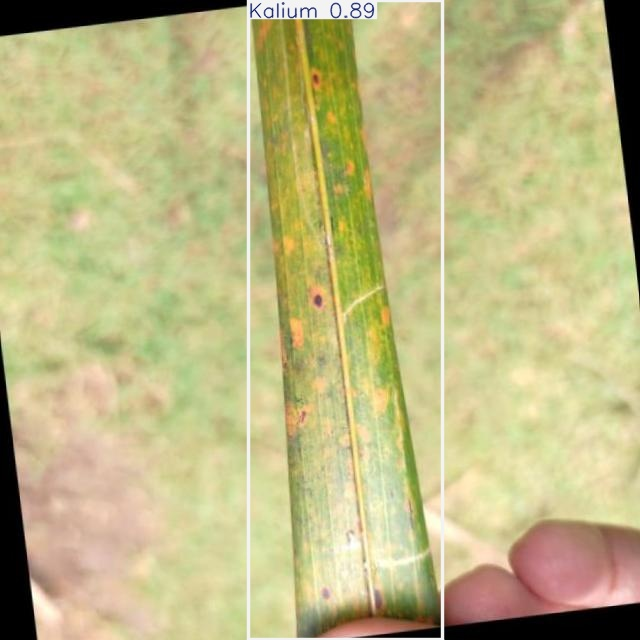Kalium: (249, 0, 443, 639)
